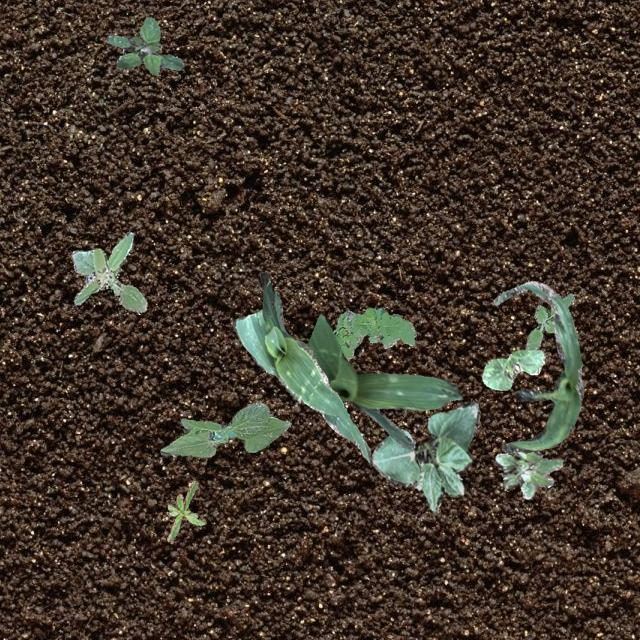crop: (232, 272, 370, 462), (306, 314, 462, 449), (492, 280, 582, 450), (370, 401, 480, 514), (160, 400, 290, 456), (480, 348, 544, 389)
weed: (70, 230, 146, 312), (104, 16, 182, 74), (332, 306, 414, 358), (494, 450, 562, 498), (524, 292, 574, 350), (166, 480, 204, 540)
